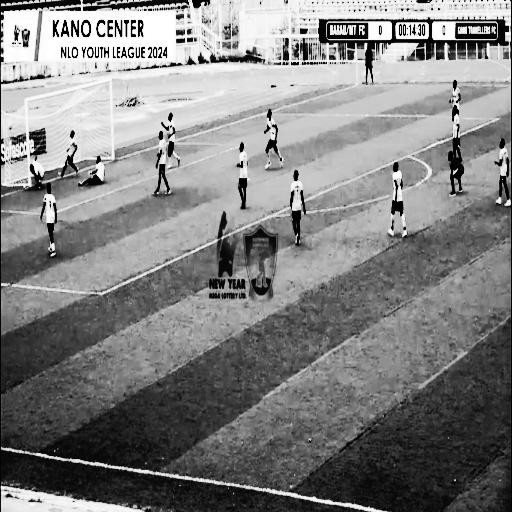ball: (6, 117, 14, 137)
keeper2: (76, 151, 108, 191)
referee: (362, 44, 376, 92)
team1: (382, 156, 414, 248), (256, 107, 290, 173), (38, 181, 61, 266), (167, 112, 185, 176), (24, 152, 48, 195), (448, 71, 460, 110)
team2: (283, 163, 315, 264), (492, 130, 512, 212), (152, 127, 173, 199), (57, 124, 81, 173), (235, 140, 249, 213), (452, 101, 464, 155)
